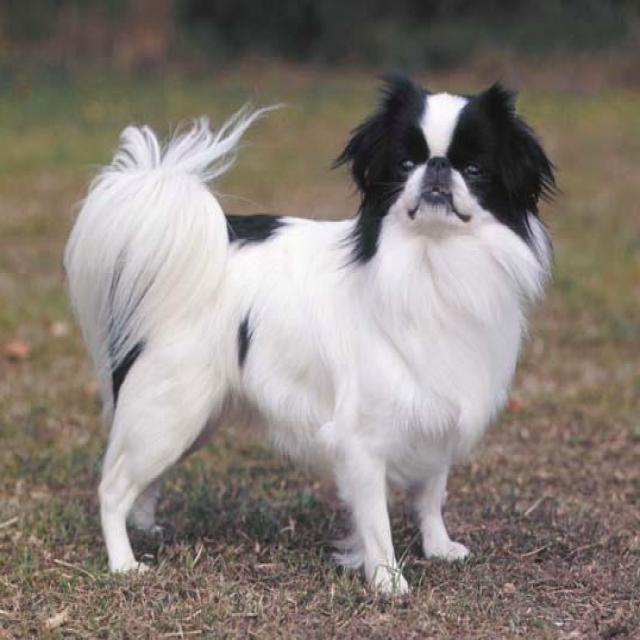husky: (65, 71, 565, 605)
